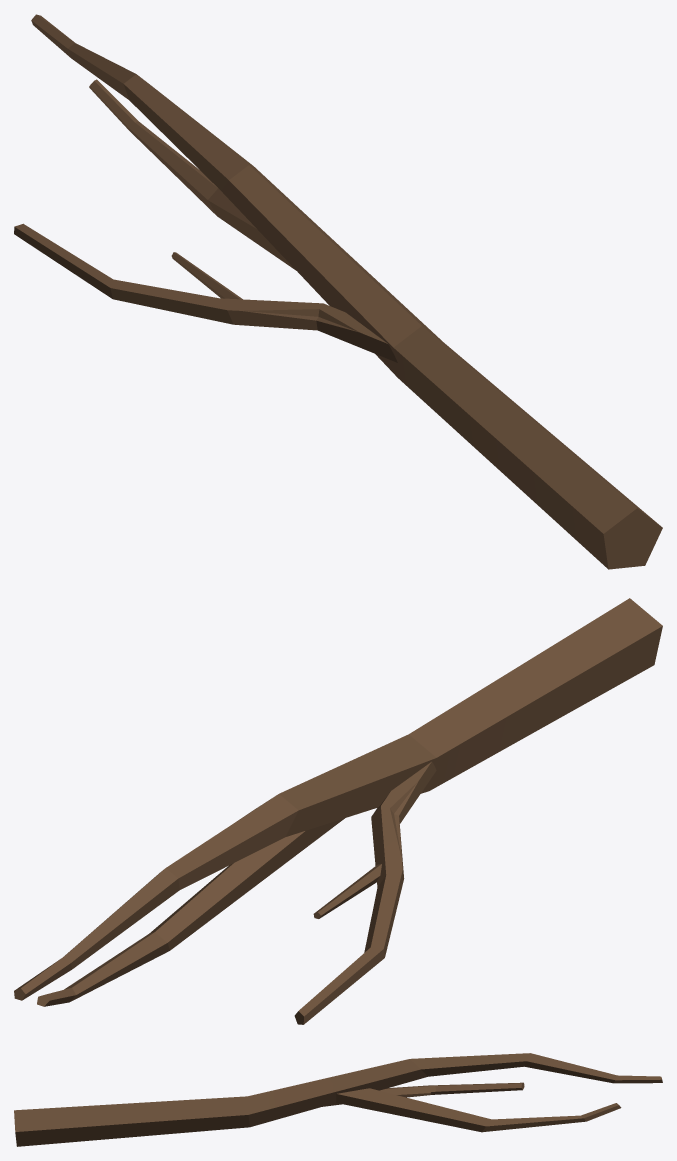
Rendered from Branch5.glb.
3 renders of one model, top to bottom at view 1: azimuth 30°, elevation 25°; view 2: azimuth 150°, elevation 25°; view 3: azimuth 270°, elevation 25°, orthographic. The views are drawn at different scales.
Parts seen in each view (by area): view 1: Branch_3; view 2: Branch_3; view 3: Branch_3.
Part boxes in pixels (x1,y1,x2,y2): Branch_3: (14, 14, 662, 569); Branch_3: (14, 598, 662, 1024); Branch_3: (14, 1053, 662, 1146).
Bounding box in the file's own units: 0.4697 × 0.3758 × 2.63.
Materials: 1 (1 with a texture image).
